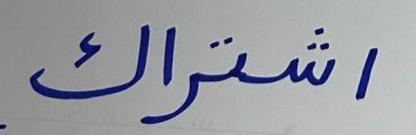kaf: (16, 14, 155, 103)
noon: (206, 29, 257, 97)
reh: (349, 26, 381, 109), (178, 59, 203, 119)
sheen: (273, 17, 343, 103)
thal: (160, 23, 176, 89)
